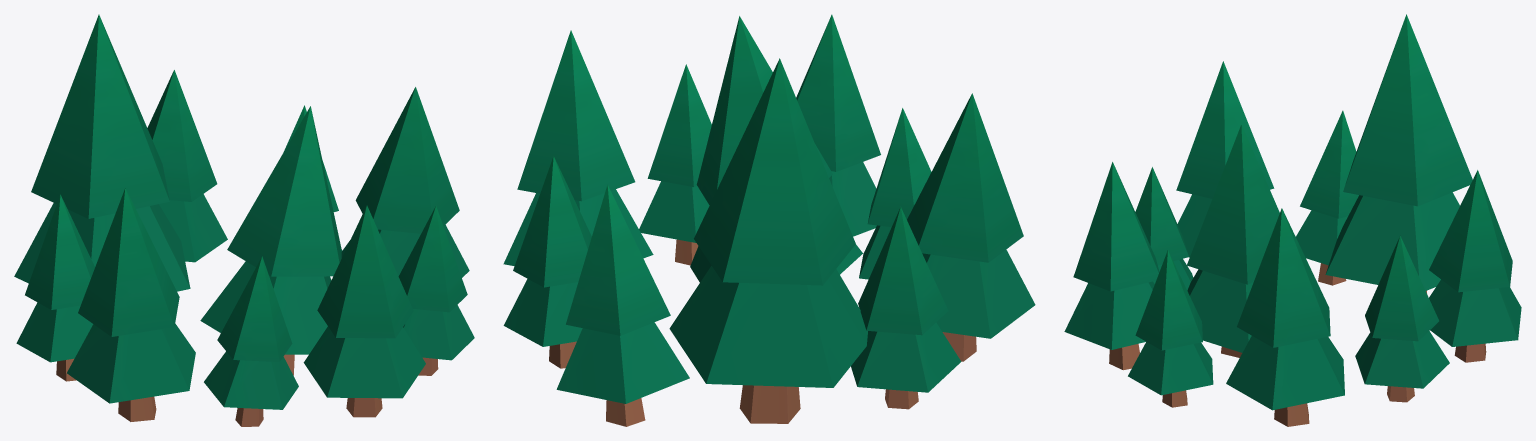
Rendered from kay-bosque.gltf.
3 renders of one model, left to right at view 1: azimuth 30°, elevation 25°; view 2: azimuth 150°, elevation 25°; view 3: azimuth 270°, elevation 25°, orthographic. The views are drawn at different scales.
Visible parts, largest first — view 1: trees_A_medium; view 2: trees_A_medium; view 3: trees_A_medium.
Boxes of the visible parts, left/top/right/bottom form: trees_A_medium: left=14, top=14, right=474, bottom=426; trees_A_medium: left=503, top=14, right=1035, bottom=426; trees_A_medium: left=1064, top=14, right=1521, bottom=426.
Bounding box in the file's own units: 8.76 × 6.48 × 9.07.
1 material, 1 textured.
